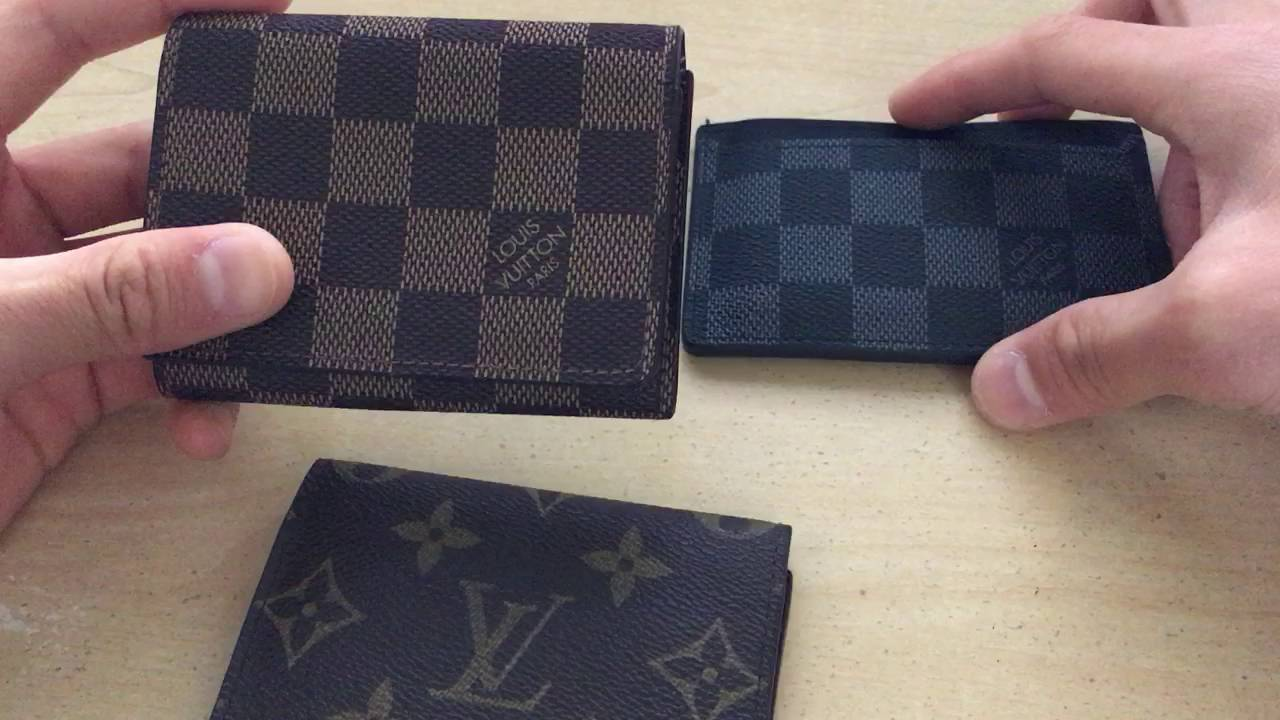monedero: (137, 8, 700, 425), (201, 455, 796, 720), (677, 116, 1179, 368)
